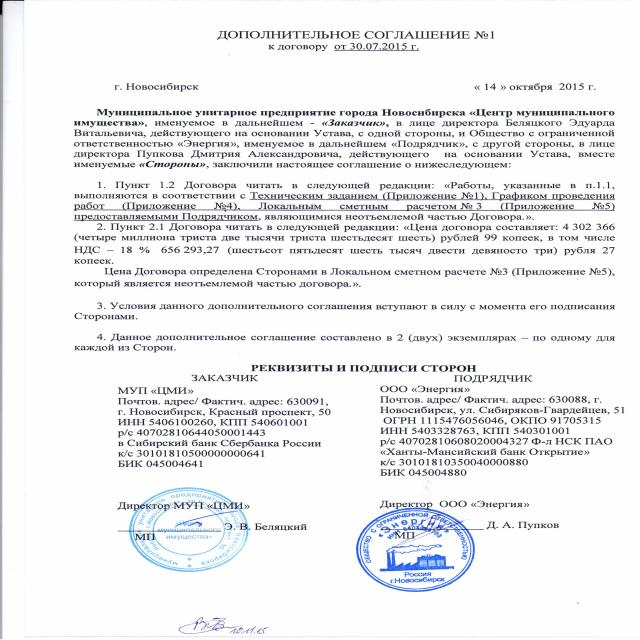stamps: (60, 431, 311, 593), (328, 490, 604, 602)
